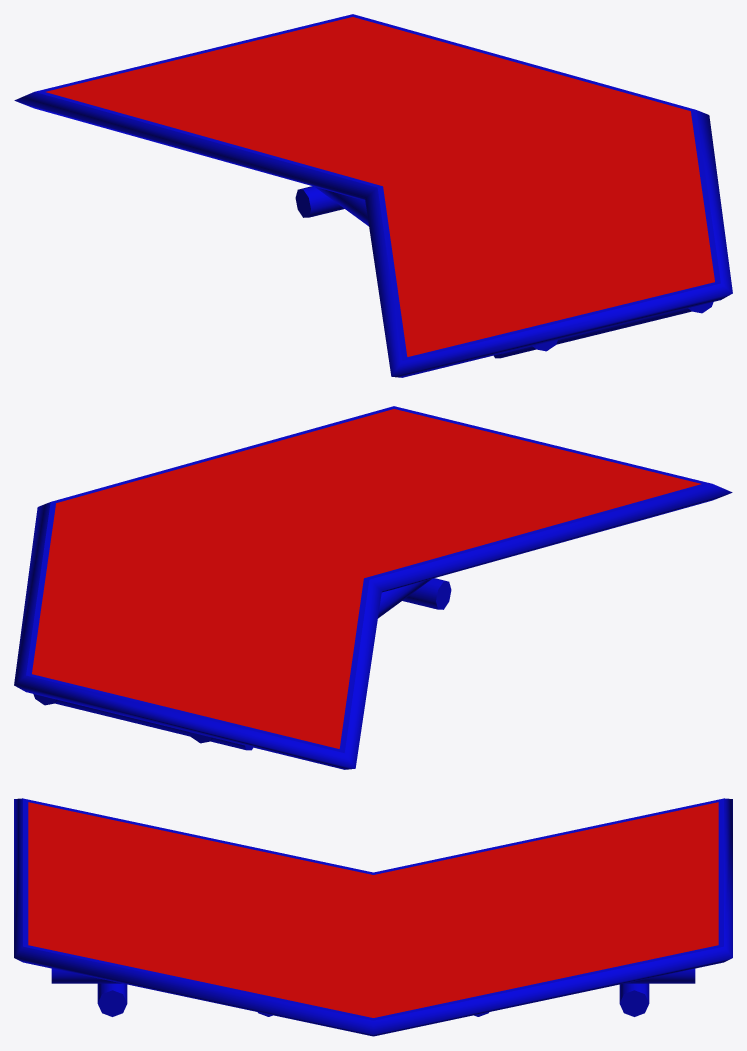
File: ArrowPlatform.fbx
3 renders of one model, top to bottom at view 1: azimuth 30°, elevation 25°; view 2: azimuth 150°, elevation 25°; view 3: azimuth 270°, elevation 25°, orthographic. The views are drawn at different scales.
Parts seen in each view (by area): view 1: ArrowPlatform; view 2: ArrowPlatform; view 3: ArrowPlatform.
Boxes of the visible parts, <box> form: ArrowPlatform: <box>14,14,732,377</box>; ArrowPlatform: <box>14,406,732,769</box>; ArrowPlatform: <box>14,798,732,1036</box>.
Bounding box in the file's own units: 318 × 39.43 × 410.
